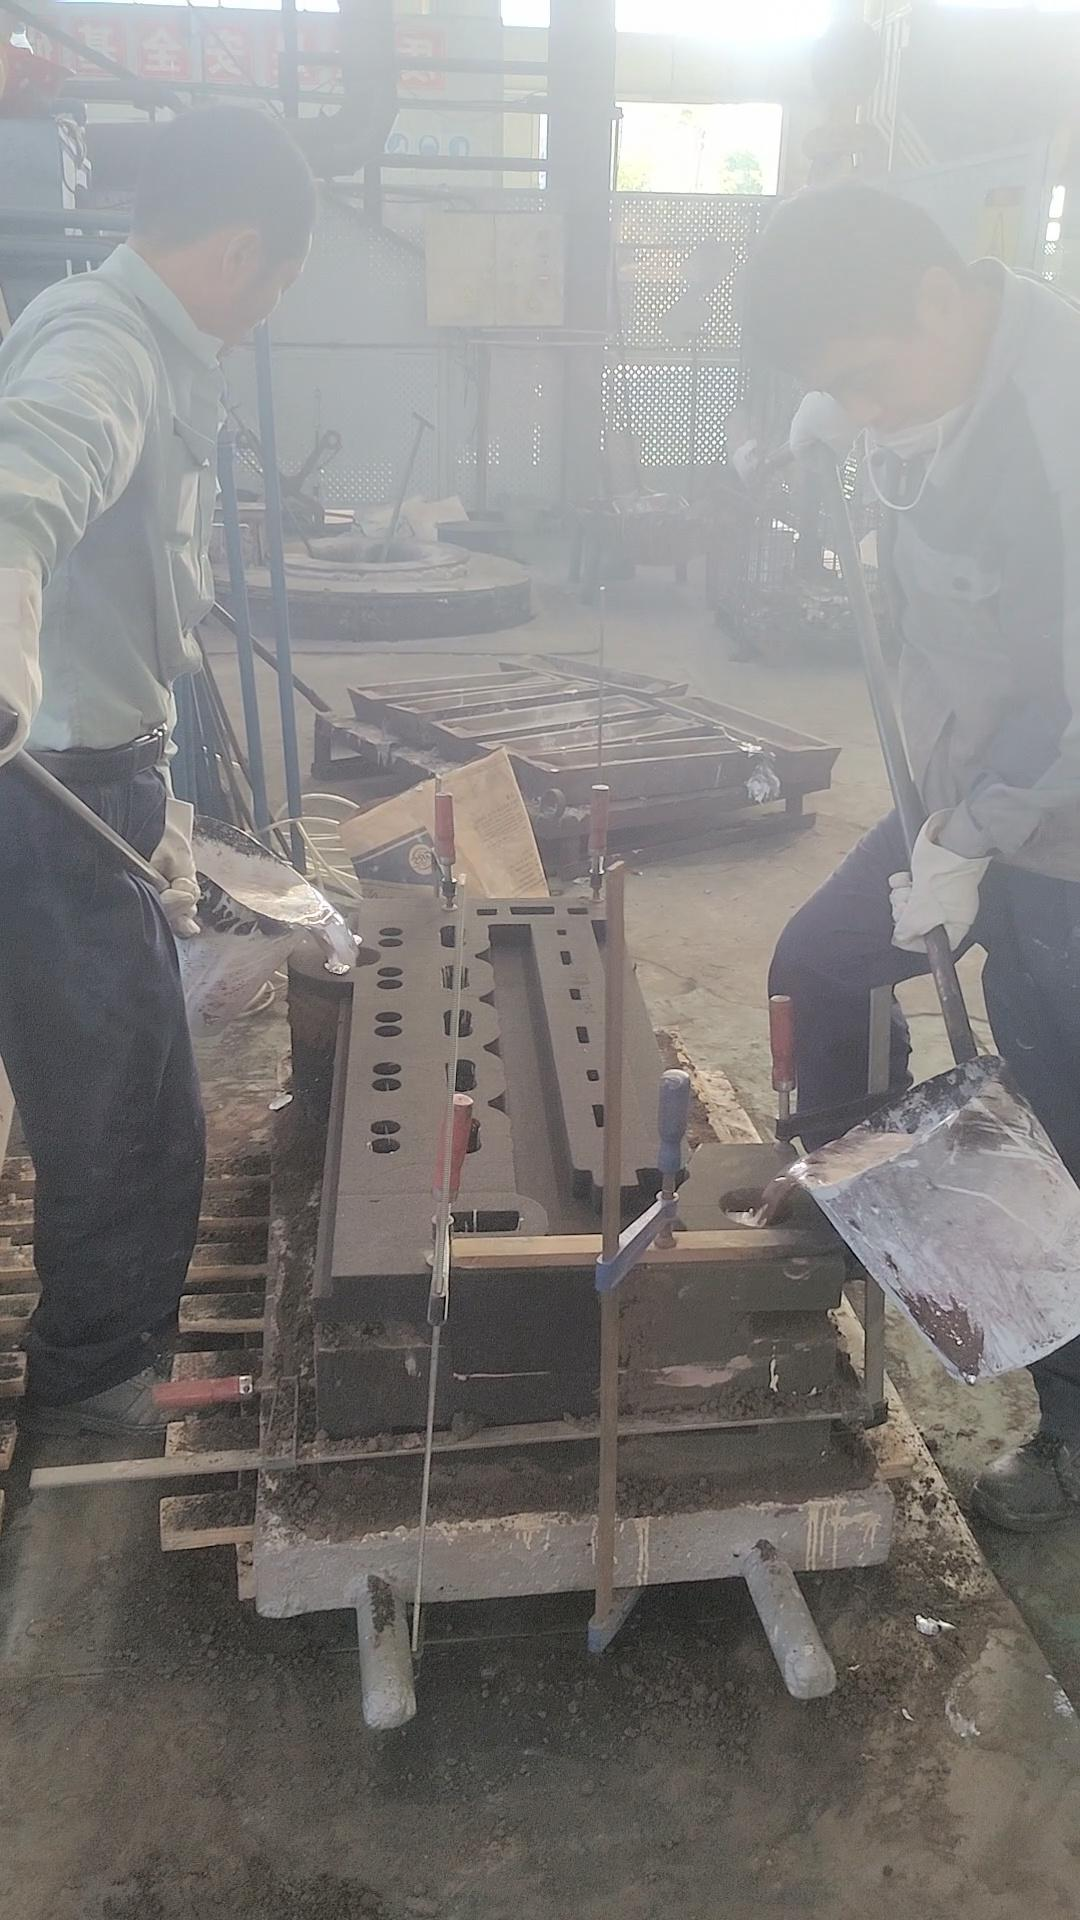pouring hole: (716, 1185, 795, 1226), (319, 943, 382, 969)
